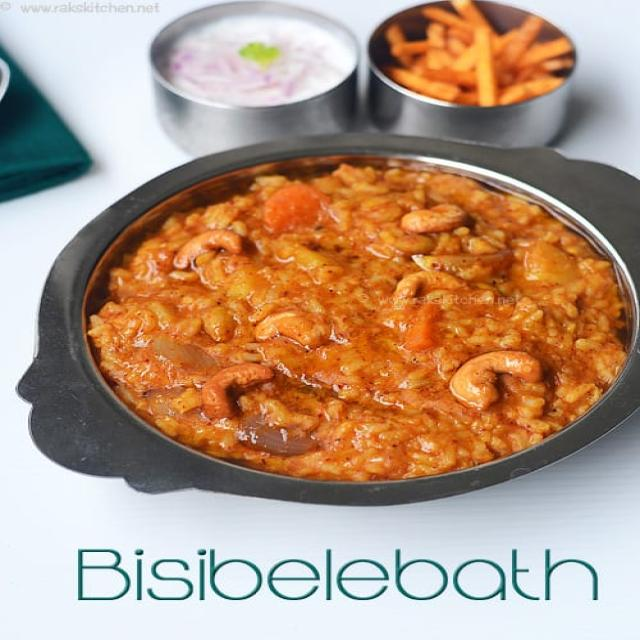bisibele bath: (4, 124, 640, 515)
